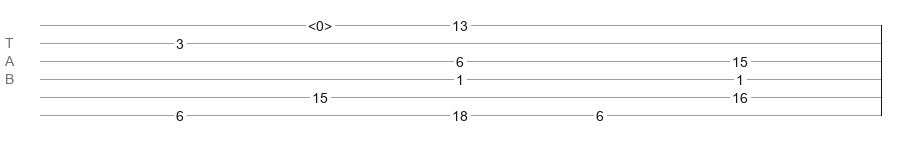1: (456, 72, 464, 82), (736, 72, 744, 82)
13: (452, 18, 468, 28)
15: (312, 90, 328, 100), (732, 54, 748, 64)
16: (732, 90, 748, 100)
18: (452, 108, 468, 118)
3: (176, 36, 184, 46)
6: (176, 108, 184, 118), (456, 54, 464, 64), (596, 108, 604, 118)
harmonic: (308, 18, 332, 28)
